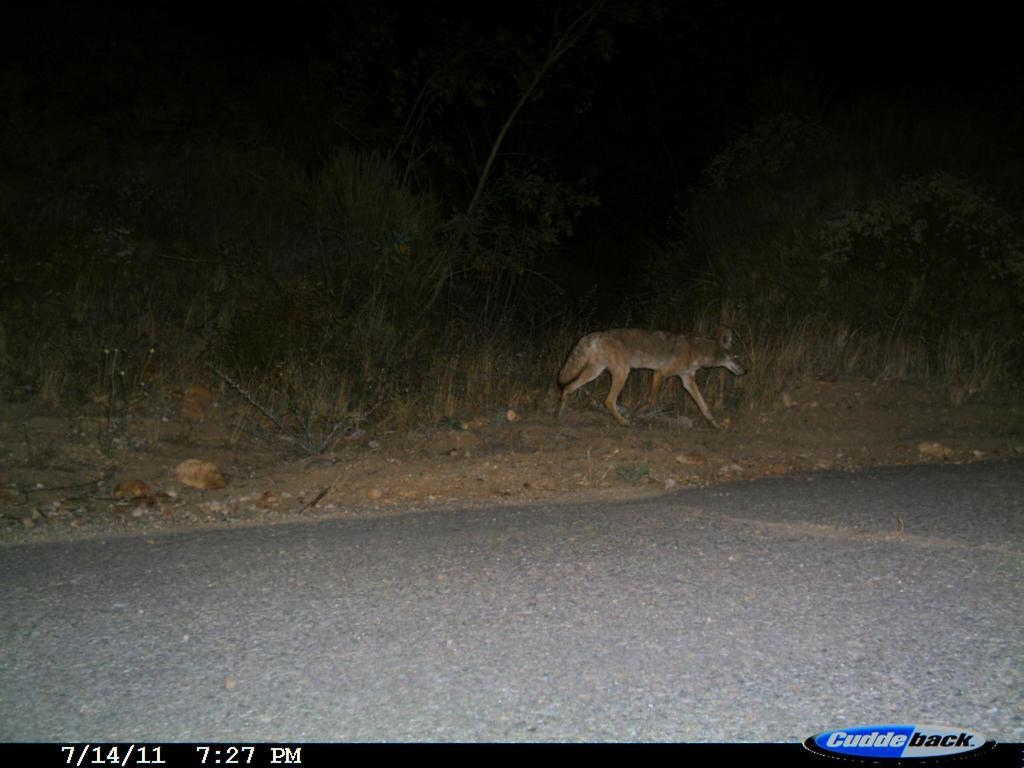coyote: (548, 312, 754, 437)
